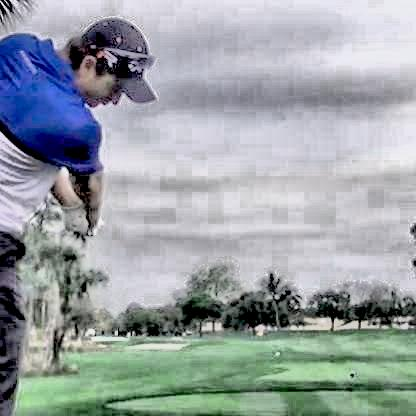golfball: (316, 316, 326, 326)
